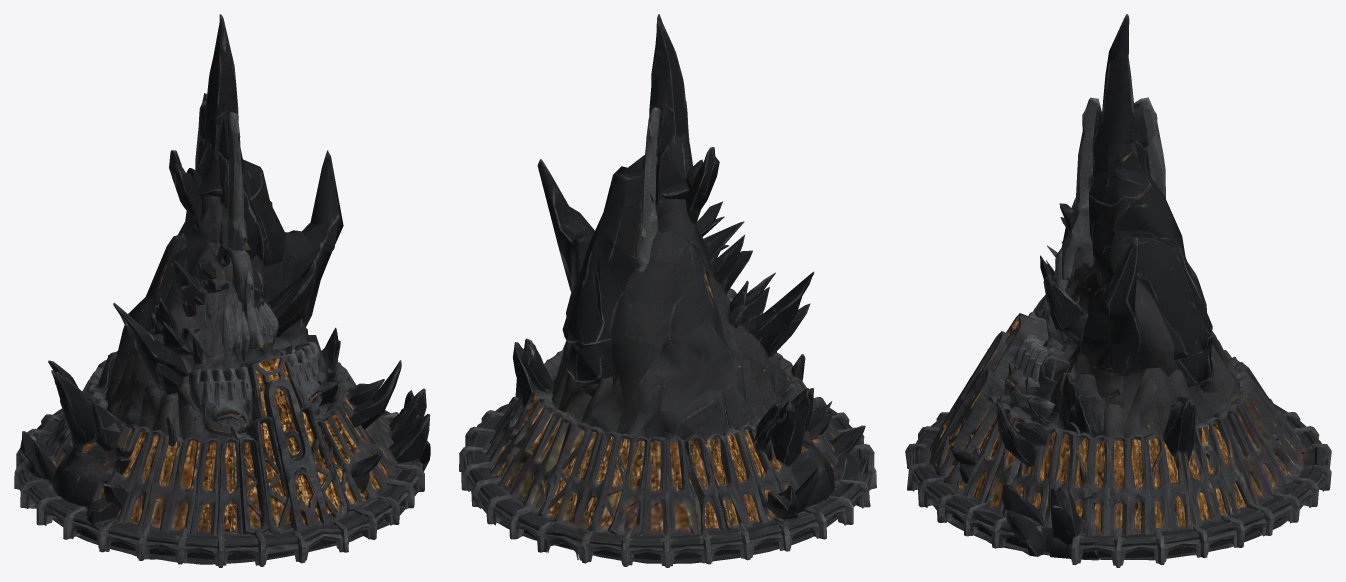
File: dugpalace.lod1.glb
3 renders of one model, left to right at view 1: azimuth 30°, elevation 25°; view 2: azimuth 150°, elevation 25°; view 3: azimuth 270°, elevation 25°, orthographic.
Parts seen in each view (by area): view 1: dugpalace-centred; view 2: dugpalace-centred; view 3: dugpalace-centred.
Boxes of the visible parts, x1,y1,x2,y2 form: dugpalace-centred: [14, 14, 430, 567]; dugpalace-centred: [459, 14, 876, 567]; dugpalace-centred: [905, 14, 1331, 567].
Bounding box in the file's own units: 66.2 × 80 × 66.17.
Materials: 1 (1 with a texture image).
